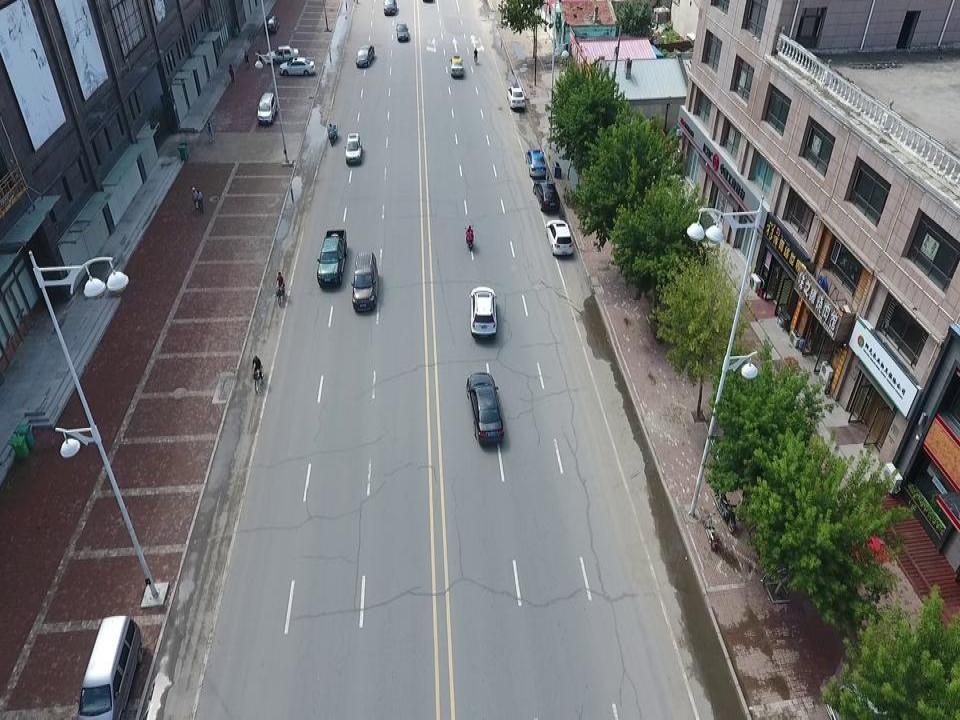car: (465, 372, 505, 447), (470, 285, 499, 339), (352, 253, 377, 311), (546, 219, 574, 257), (533, 182, 560, 214), (279, 57, 315, 76), (257, 93, 277, 127), (265, 45, 299, 64), (526, 147, 546, 177), (507, 85, 526, 111), (345, 135, 362, 164), (356, 44, 375, 68), (263, 14, 279, 34), (449, 56, 463, 76), (395, 21, 409, 40), (384, 0, 397, 15)
van: (74, 614, 143, 720)
